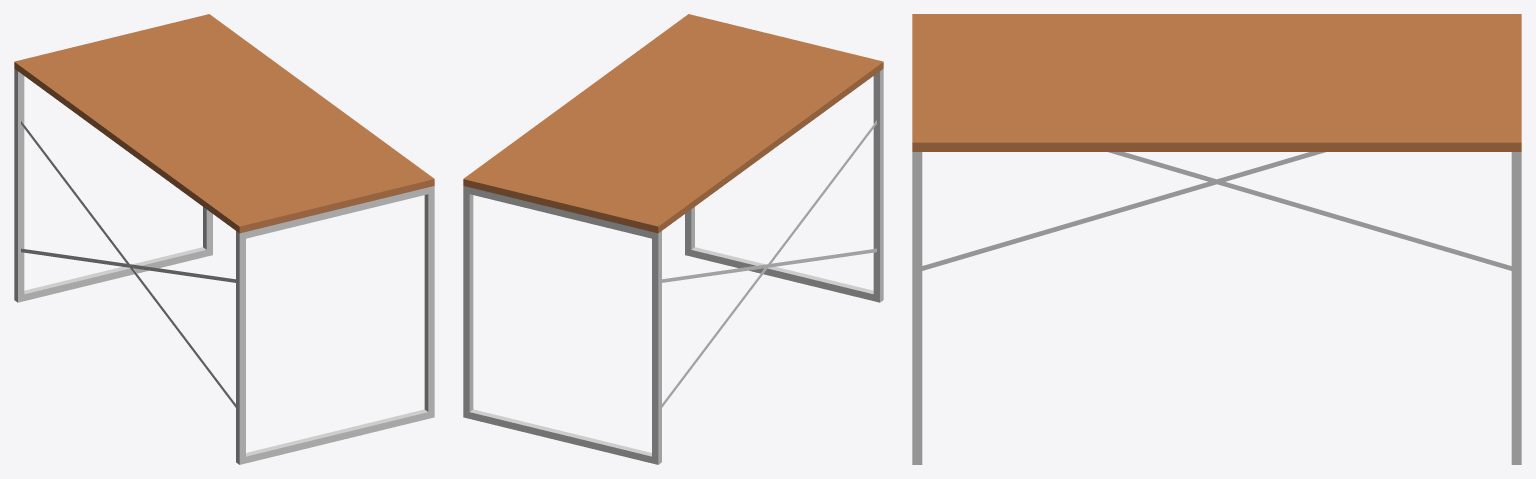
The model's file is desk-brown.glb.
3 renders of one model, left to right at view 1: azimuth 30°, elevation 25°; view 2: azimuth 150°, elevation 25°; view 3: azimuth 270°, elevation 25°, orthographic. The views are drawn at different scales.
Parts seen in each view (by area): view 1: Board, Leg, Wire, Wire2; view 2: Board, Leg, Wire2, Wire; view 3: Board, Leg, Wire2, Wire.
Part boxes in pixels (left/top/right/bottom): Board: left=14, top=14, right=434, bottom=233; Leg: left=14, top=69, right=434, bottom=464; Wire: left=21, top=120, right=235, bottom=407; Wire2: left=21, top=248, right=235, bottom=282; Board: left=463, top=14, right=883, bottom=233; Leg: left=463, top=69, right=883, bottom=464; Wire2: left=662, top=120, right=876, bottom=407; Wire: left=662, top=248, right=876, bottom=282; Board: left=912, top=14, right=1521, bottom=151; Leg: left=912, top=152, right=1521, bottom=464; Wire2: left=1108, top=152, right=1511, bottom=270; Wire: left=922, top=152, right=1325, bottom=270.
Size of the model in its own units: 0.6 by 0.7 by 1.2.
